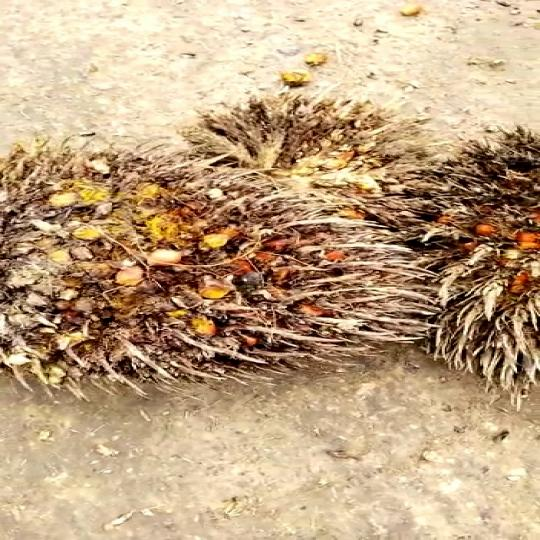terlalu masak: (0, 156, 415, 392), (374, 130, 540, 378), (185, 96, 432, 196)
